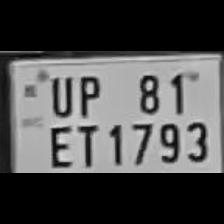1: (164, 66, 190, 116), (102, 118, 126, 168)
3: (180, 116, 210, 164)
7: (124, 118, 152, 168)
8: (132, 67, 162, 115)
9: (154, 118, 180, 164)
E: (44, 121, 74, 169)
P: (72, 70, 102, 118)
T: (73, 120, 101, 168)
U: (46, 70, 74, 118)
